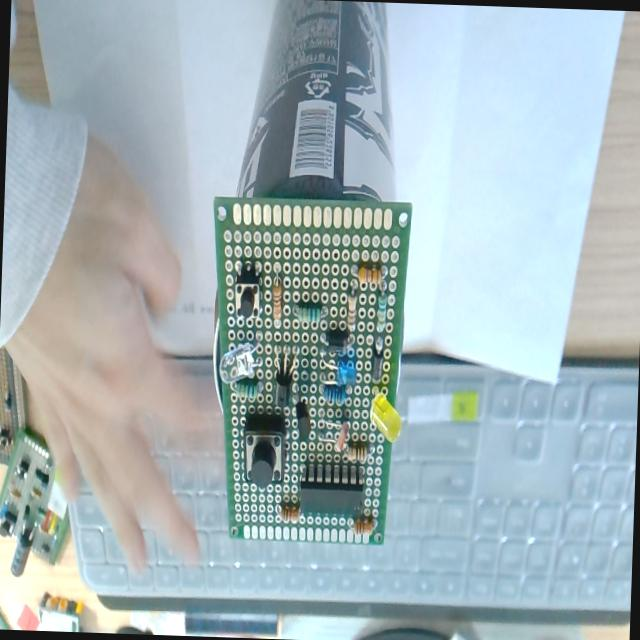IC: (296, 460, 363, 518)
cds: (317, 414, 349, 449)
diode: (318, 332, 355, 355), (371, 339, 384, 384)
led: (216, 330, 263, 384), (368, 391, 402, 444), (318, 356, 358, 390)
resistor: (234, 377, 262, 401), (356, 262, 382, 287), (322, 384, 348, 406), (293, 303, 320, 324), (271, 280, 282, 321), (346, 440, 366, 462), (346, 289, 356, 330), (354, 516, 374, 536), (376, 292, 386, 331), (280, 503, 299, 522)
switch: (242, 415, 287, 490), (234, 263, 264, 323)
transistor: (268, 346, 300, 415), (292, 393, 313, 442)
